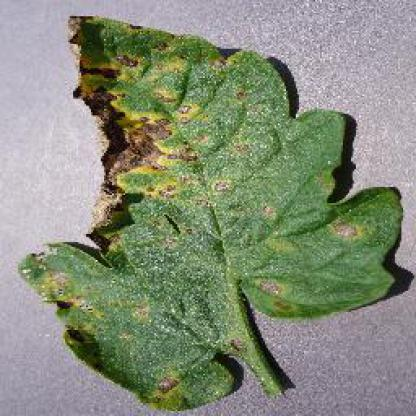bad leaf: (78, 18, 202, 217), (31, 245, 104, 329), (141, 211, 201, 253), (119, 286, 165, 340), (87, 211, 138, 252), (256, 254, 299, 299), (229, 86, 274, 116), (155, 364, 187, 399), (332, 215, 365, 247), (195, 46, 242, 66), (254, 195, 280, 226), (222, 330, 246, 362), (211, 175, 239, 198), (229, 142, 258, 160)
